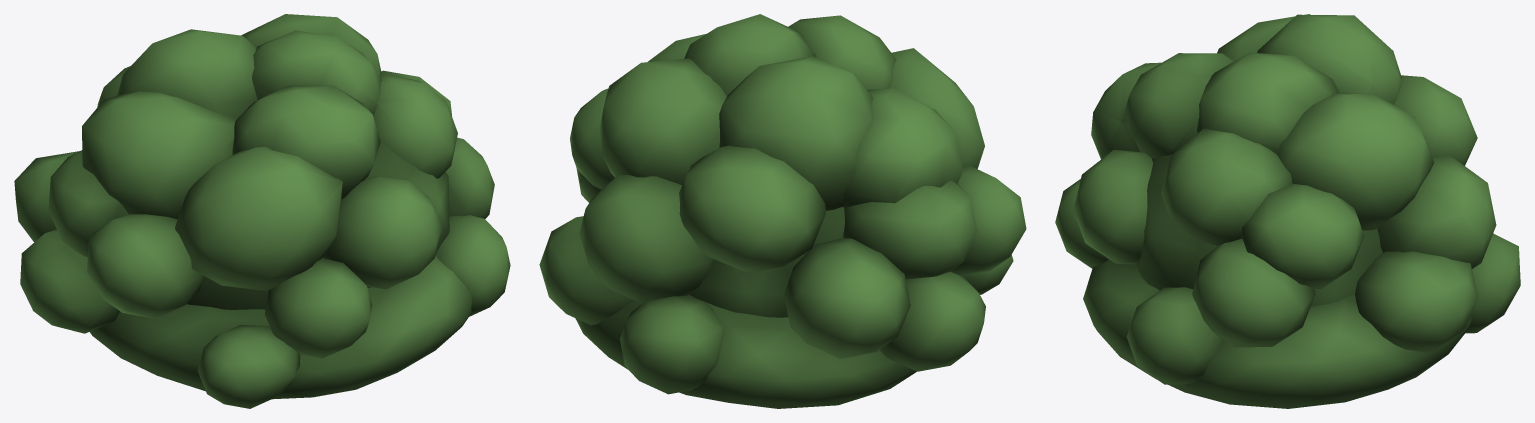
The model's file is shrub_round.fbx.
3 renders of one model, left to right at view 1: azimuth 30°, elevation 25°; view 2: azimuth 150°, elevation 25°; view 3: azimuth 270°, elevation 25°, orthographic. The views are drawn at different scales.
Visible parts, largest first — view 1: shrub_round; view 2: shrub_round; view 3: shrub_round.
Part boxes in pixels (x1,y1,x2,y2): shrub_round: (14, 14, 510, 408); shrub_round: (539, 14, 1026, 408); shrub_round: (1055, 14, 1520, 408).
Bounding box in the file's own units: 1.58 × 1.1 × 1.52.
